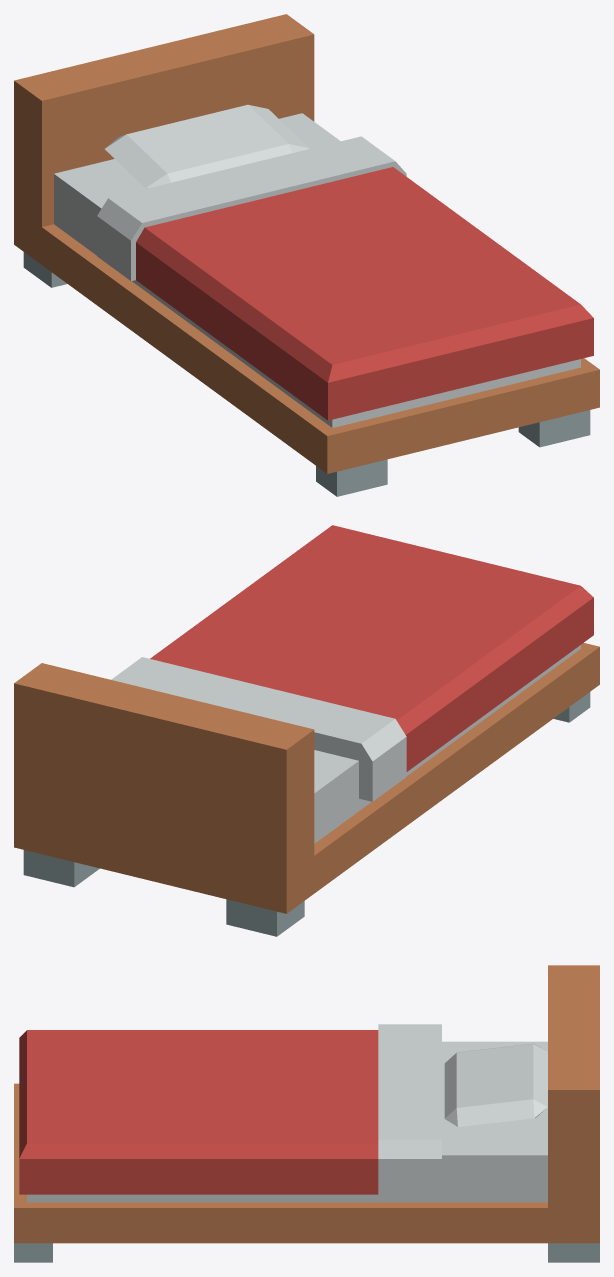
File: furn_bedSingle.glb
The picture shows the model from 3 angles, top to bottom: view 1: azimuth 30°, elevation 25°; view 2: azimuth 150°, elevation 25°; view 3: azimuth 270°, elevation 25°; orthographic projection. The views are drawn at different scales.
Visible parts, largest first — view 1: cover, bedSingle(Clone), pillow; view 2: bedSingle(Clone), cover; view 3: cover, bedSingle(Clone), pillow.
Part boxes in pixels (bbox=[...]): cover: bbox=[97, 136, 593, 420]; bedSingle(Clone): bbox=[14, 14, 599, 496]; pillow: bbox=[105, 104, 309, 188]; bedSingle(Clone): bbox=[14, 643, 599, 936]; cover: bbox=[111, 525, 593, 801]; cover: bbox=[19, 1024, 441, 1196]; bedSingle(Clone): bbox=[14, 965, 599, 1262]; pillow: bbox=[444, 1043, 547, 1126].
Bounding box in the file's own units: 0.571 × 0.375 × 1.12.
